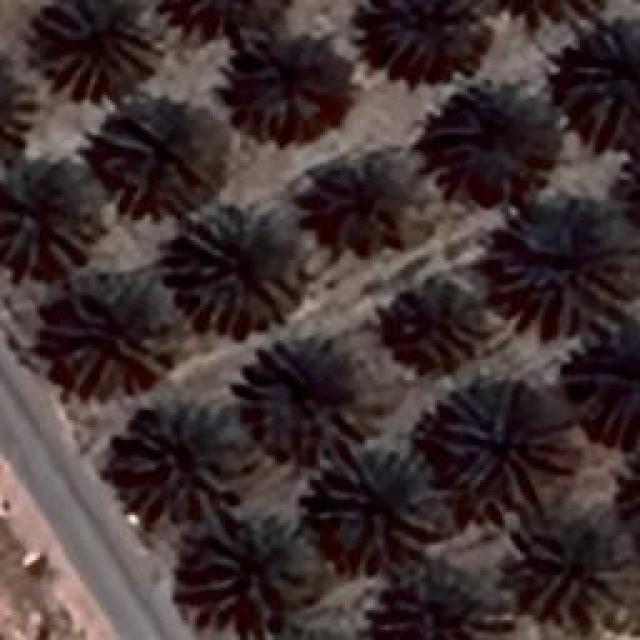PalmTree: (18, 73, 432, 604), (490, 205, 630, 338), (115, 400, 250, 528), (435, 384, 570, 508), (178, 207, 308, 335), (52, 275, 186, 395), (182, 510, 310, 632), (235, 342, 363, 462), (520, 512, 638, 640), (315, 445, 443, 560), (228, 46, 354, 139), (38, 0, 160, 95), (0, 160, 98, 270), (98, 108, 210, 204), (435, 95, 535, 195), (364, 0, 478, 78), (382, 286, 486, 369), (326, 168, 426, 250), (567, 30, 640, 137), (572, 331, 640, 439), (162, 0, 286, 31), (616, 434, 640, 552), (481, 0, 616, 20), (621, 434, 640, 548), (622, 132, 640, 252), (164, 0, 277, 18), (252, 629, 366, 640)
